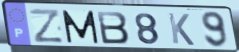8: (134, 12, 162, 45)
9: (200, 10, 230, 50)
B: (95, 10, 131, 45)
K: (167, 12, 197, 47)
M: (60, 9, 101, 44)
Z: (28, 8, 66, 45)
